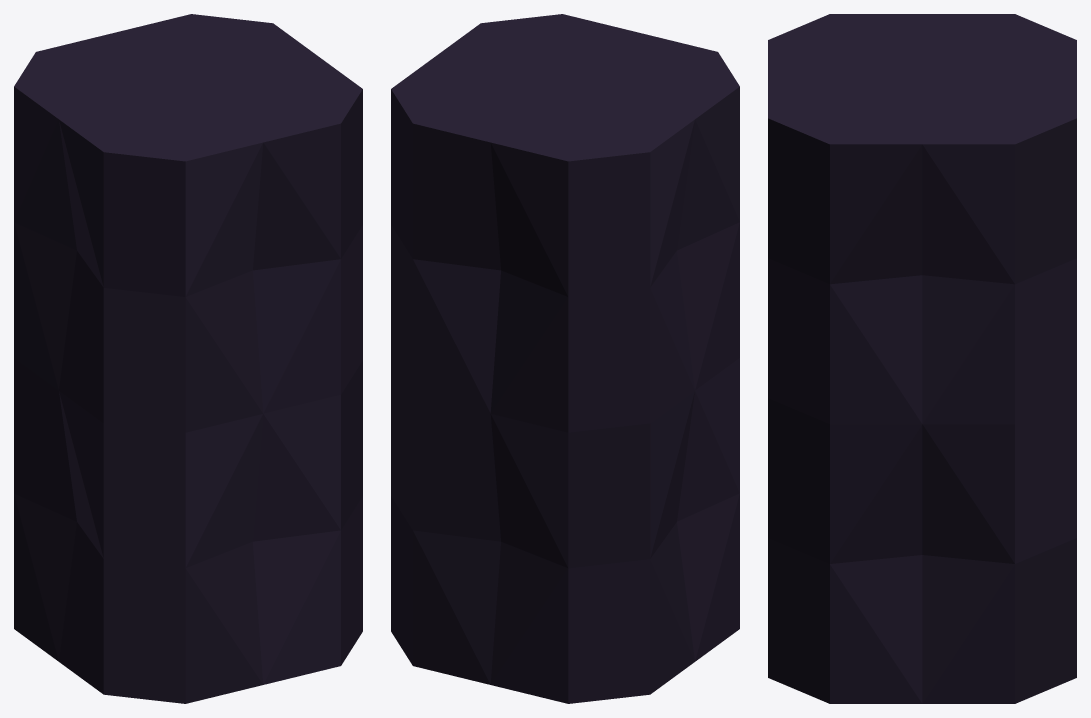
The model's file is Section_1.glb.
The picture shows the model from 3 angles, left to right: view 1: azimuth 30°, elevation 25°; view 2: azimuth 150°, elevation 25°; view 3: azimuth 270°, elevation 25°; orthographic projection. The views are drawn at different scales.
Parts seen in each view (by area): view 1: Section; view 2: Section; view 3: Section.
Part boxes in pixels (bbox=[...]): Section: bbox=[14, 14, 362, 703]; Section: bbox=[391, 14, 739, 703]; Section: bbox=[768, 14, 1076, 703].
Size of the model in its own units: 2 by 4 by 2.
